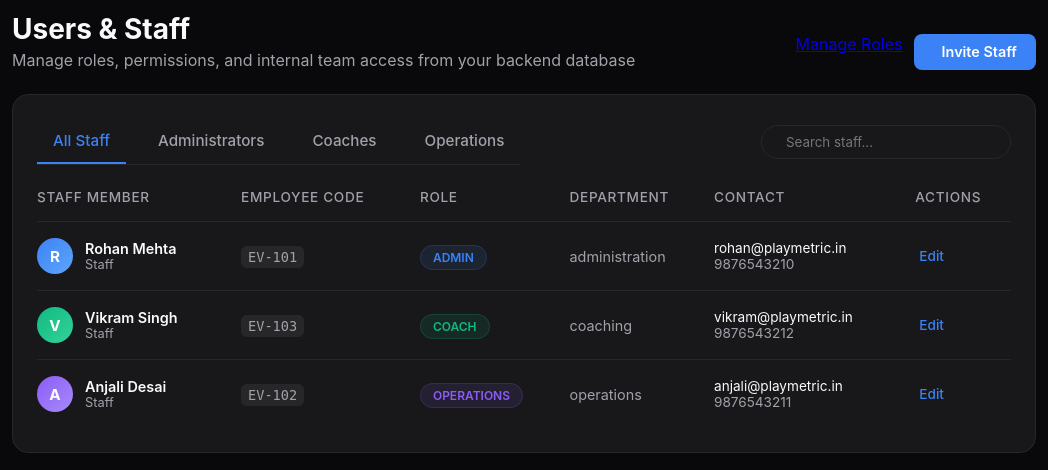
Scenario: Users Page Directory tests › should filter staff list based on tab selection
Expected: the text "Rohan Mehta" is shown, [85,240,176,257]
# Click on Administrators tab
Click the button "Administrators". click: (211, 142)
box: [142,119,280,164]
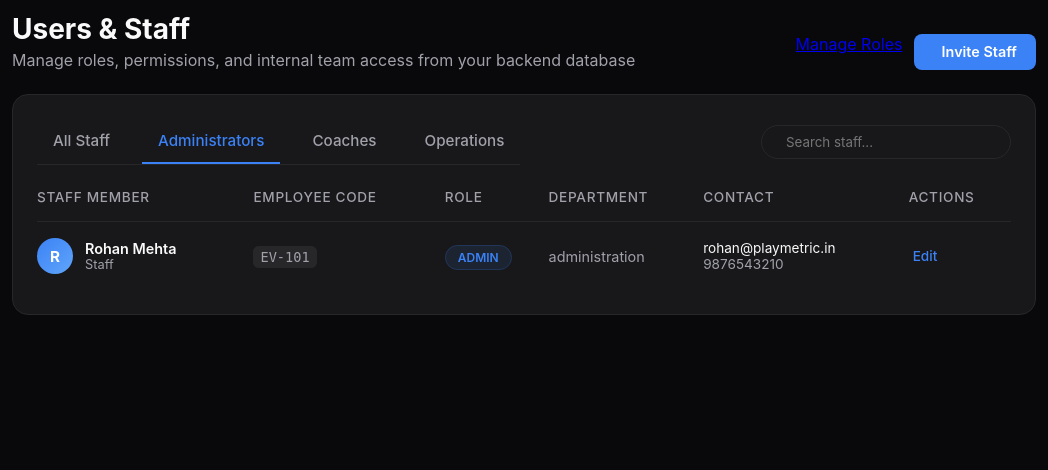
Expected: the text "Rohan Mehta" is shown, [85,240,176,257]
Expected: the text "Vikram Singh" is gone
Expected: the text "Anjali Desai" is gone
